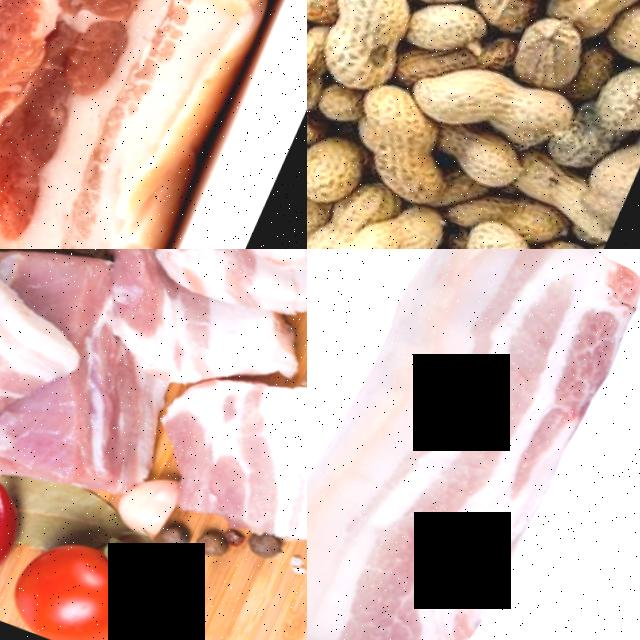peanuts: (442, 56, 586, 153), (345, 77, 463, 189), (310, 0, 438, 77), (507, 1, 603, 93), (307, 126, 376, 208), (458, 206, 555, 249), (604, 0, 640, 72), (573, 0, 640, 29)
pork belly: (307, 249, 640, 640), (0, 0, 307, 249), (0, 304, 199, 502), (142, 346, 307, 552), (83, 249, 307, 400), (0, 249, 92, 438)
tomato: (6, 520, 178, 640)
